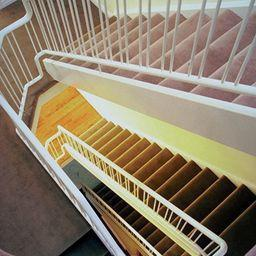Escaleras: (37, 2, 253, 144), (61, 123, 251, 253)
